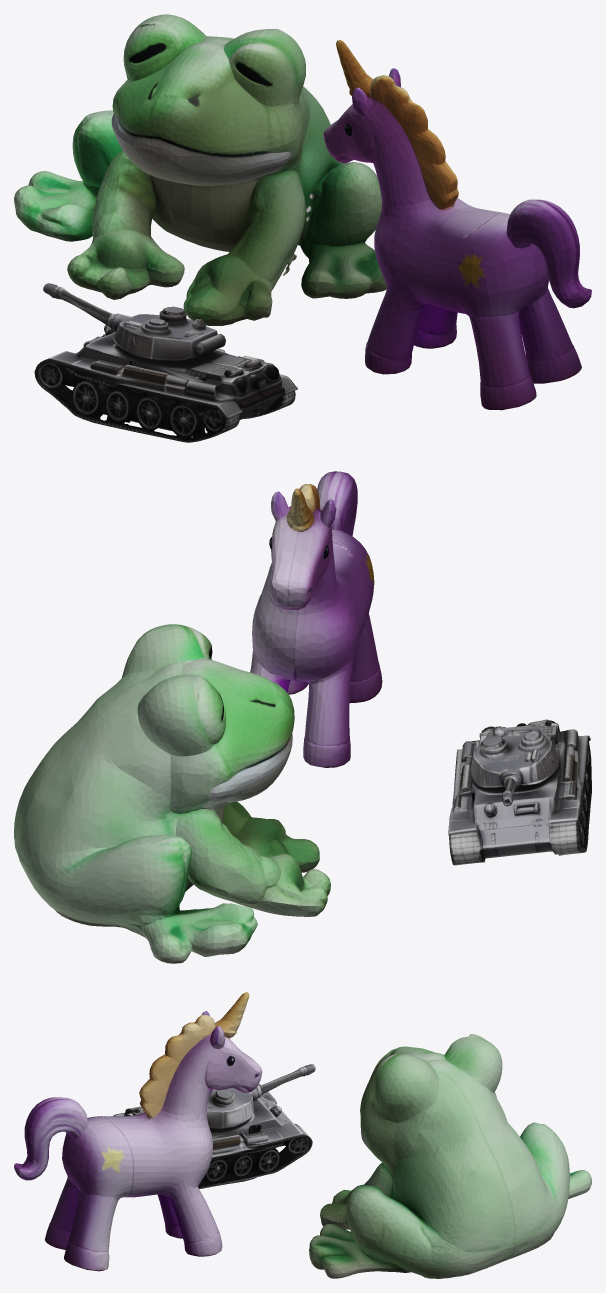
Rendered from vlm-8.glb.
3 views of the same model, one above another, from view 1: azimuth 30°, elevation 25°; view 2: azimuth 150°, elevation 25°; view 3: azimuth 270°, elevation 25° (orthographic). The views are drawn at different scales.
Visible parts, largest first — view 1: mesh_2; view 2: mesh_2; view 3: mesh_2.
Boxes of the visible parts, box(x1,y1,x2,y2) form: mesh_2: box(14, 14, 591, 442); mesh_2: box(14, 471, 591, 963); mesh_2: box(14, 992, 591, 1278).
Bounding box in the file's own units: 3.89 × 2.72 × 5.68.
3 materials, 3 textured.
